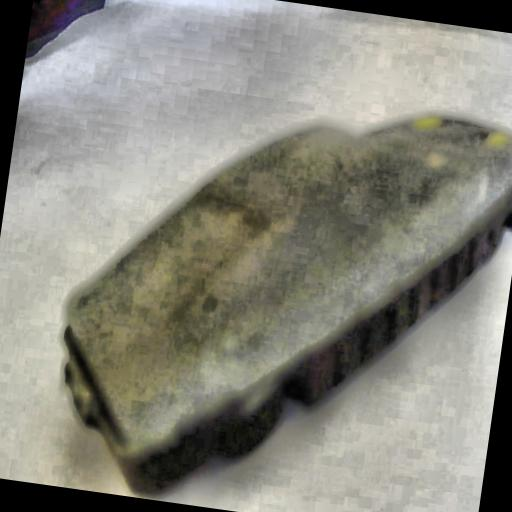normal_car: (40, 67, 512, 512)
